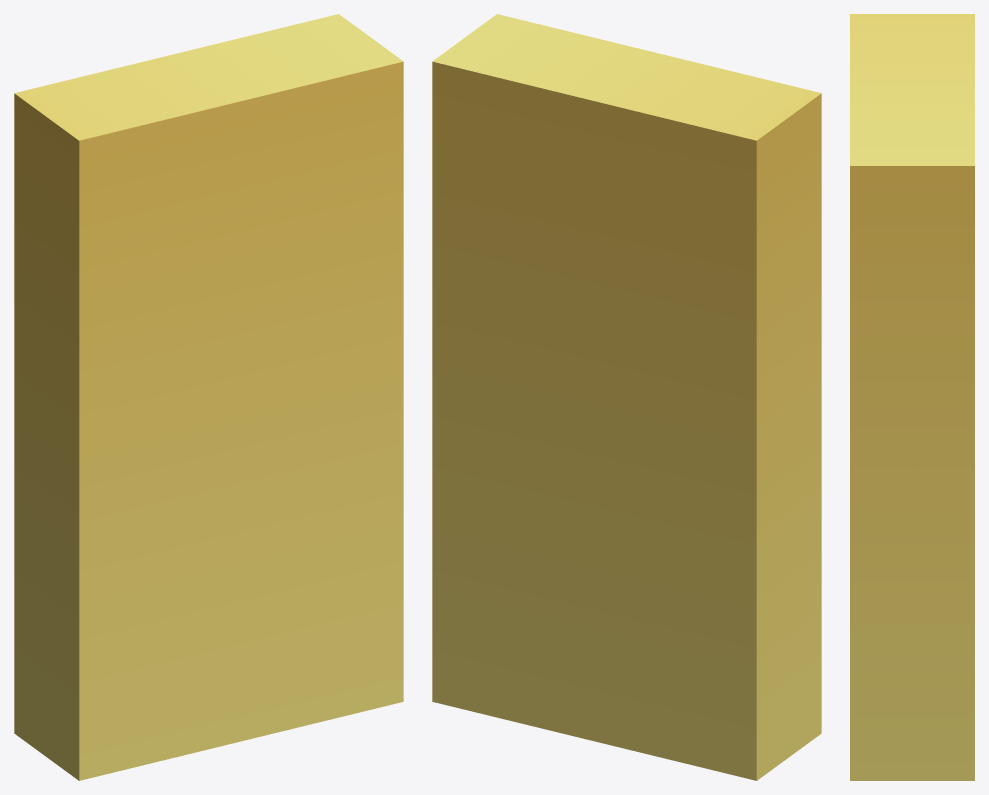
Rendered from muro_stanza_piccola 1.fbx.
3 views of the same model, side by side, from view 1: azimuth 30°, elevation 25°; view 2: azimuth 150°, elevation 25°; view 3: azimuth 270°, elevation 25° (orthographic). The views are drawn at different scales.
Visible parts, largest first — view 1: pareteGrande_mod01.019; view 2: pareteGrande_mod01.019; view 3: pareteGrande_mod01.019.
Boxes of the visible parts, x1,y1,x2,y2 form: pareteGrande_mod01.019: (14, 14, 403, 780); pareteGrande_mod01.019: (432, 14, 821, 780); pareteGrande_mod01.019: (850, 14, 974, 780).
Size of the model in its own units: 2408 by 4538 by 835.
Materials: 1 (1 with a texture image).
